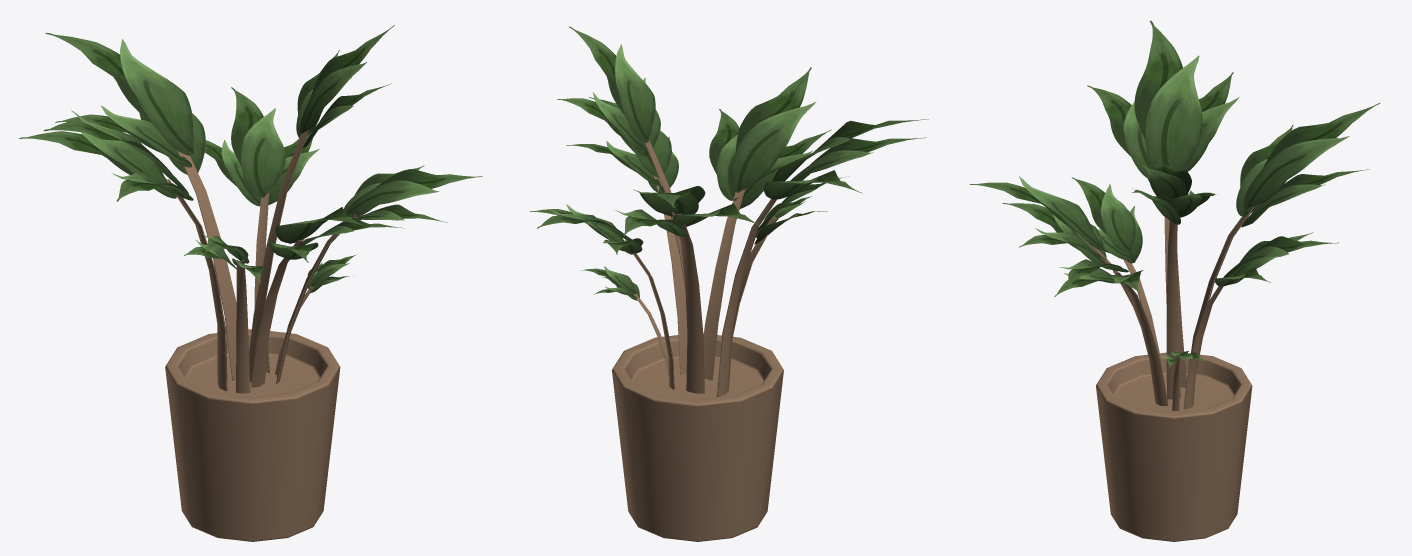
Rendered from SM_plant.fbx.
3 views of the same model, side by side, from view 1: azimuth 30°, elevation 25°; view 2: azimuth 150°, elevation 25°; view 3: azimuth 270°, elevation 25° (orthographic). The views are drawn at different scales.
Parts seen in each view (by area): view 1: leaves, pot, stems; view 2: pot, leaves, stems; view 3: leaves, pot, stems.
Boxes of the visible parts, left/top/right/bottom form: leaves: left=19, top=25, right=482, bottom=292; pot: left=165, top=329, right=340, bottom=541; stems: left=167, top=130, right=357, bottom=393; pot: left=612, top=333, right=783, bottom=541; leaves: left=529, top=26, right=928, bottom=300; stems: left=624, top=139, right=776, bottom=396; leaves: left=969, top=20, right=1380, bottom=367; pot: left=1096, top=352, right=1252, bottom=541; stems: left=1084, top=206, right=1255, bottom=410.
Bounding box in the file's own units: 147 × 161 × 153.
Materials: 2 (1 with a texture image).
